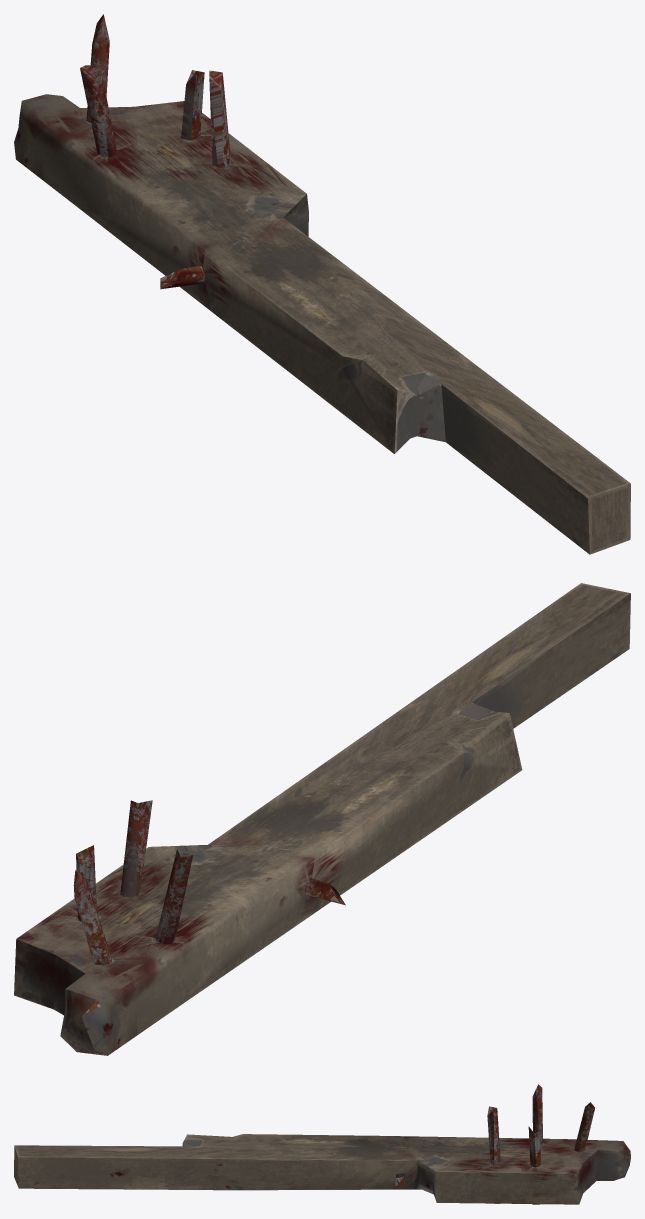
File: nailed_plank.glb
The picture shows the model from 3 angles, top to bottom: view 1: azimuth 30°, elevation 25°; view 2: azimuth 150°, elevation 25°; view 3: azimuth 270°, elevation 25°; orthographic projection. The views are drawn at different scales.
Visible parts, largest first — view 1: NailedPlank; view 2: NailedPlank; view 3: NailedPlank.
Part boxes in pixels (x1=…): NailedPlank: x1=14, y1=14, x2=630, y2=554; NailedPlank: x1=14, y1=583, x2=630, y2=1055; NailedPlank: x1=14, y1=1084, x2=630, y2=1204.
Size of the model in its own units: 0.0997 by 0.0915 by 0.5389.
Materials: 1 (1 with a texture image).
